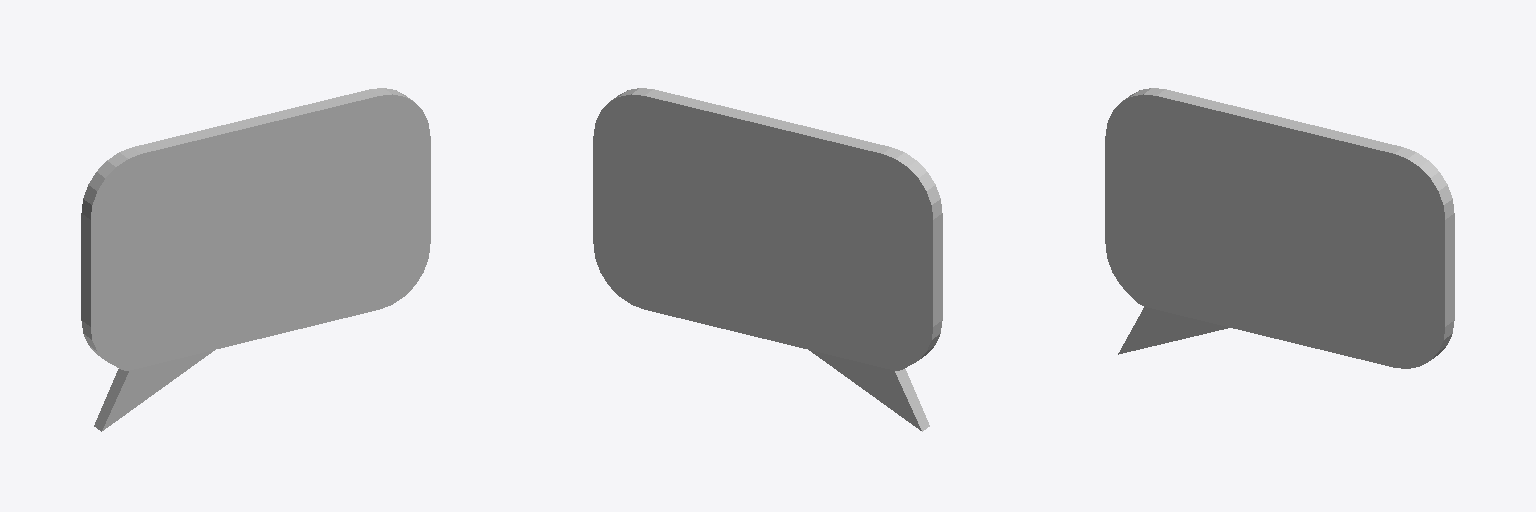
The model's file is speechBubble.obj.
3 renders of one model, left to right at view 1: azimuth 30°, elevation 25°; view 2: azimuth 150°, elevation 25°; view 3: azimuth 330°, elevation 25°, orthographic.
Visible parts, largest first — view 1: pCube1; view 2: pCube1; view 3: pCube1.
Part boxes in pixels (x1,y1,x2,y2): pCube1: (81, 88, 430, 431); pCube1: (593, 88, 942, 431); pCube1: (1105, 88, 1454, 368).
Size of the model in its own units: 1.53 by 1.15 by 0.0711.